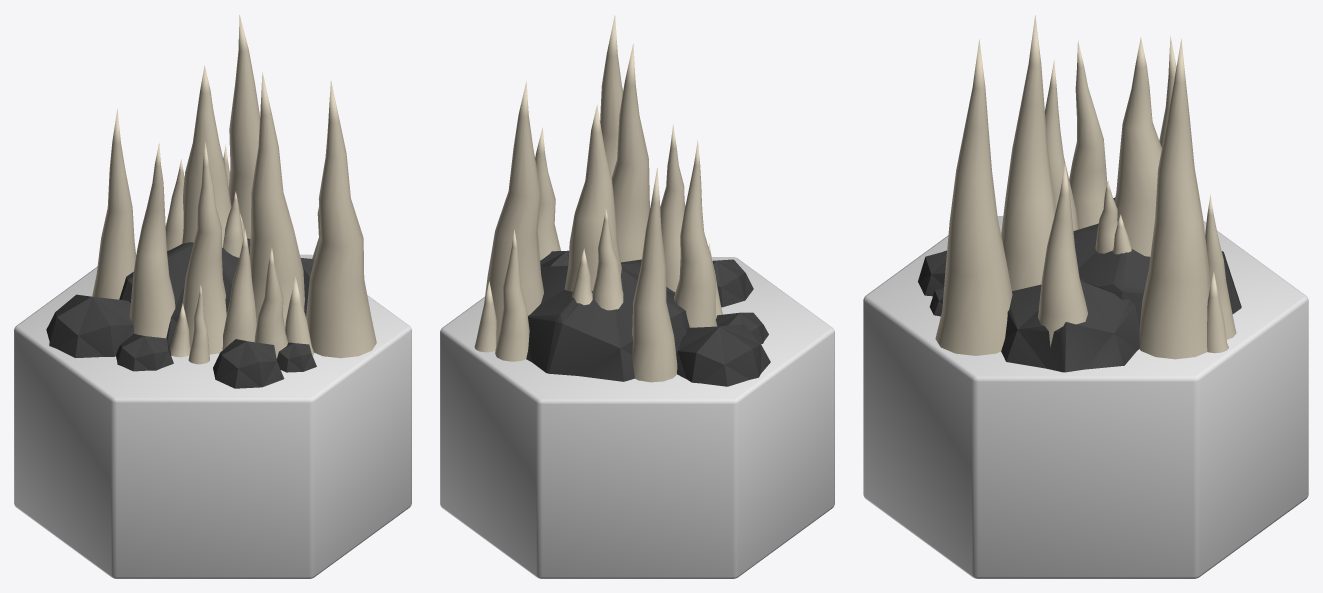
Rendered from cyl18.fbx.
The picture shows the model from 3 angles, left to right: view 1: azimuth 30°, elevation 25°; view 2: azimuth 150°, elevation 25°; view 3: azimuth 270°, elevation 25°; orthographic projection. The views are drawn at different scales.
Visible parts, largest first — view 1: Cylinder018; view 2: Cylinder018; view 3: Cylinder018.
Part boxes in pixels (box(x1,y1,x2,y2)): Cylinder018: box(14, 15, 411, 578); Cylinder018: box(440, 15, 834, 578); Cylinder018: box(863, 15, 1308, 578).
Size of the model in its own units: 173 by 246 by 199.
